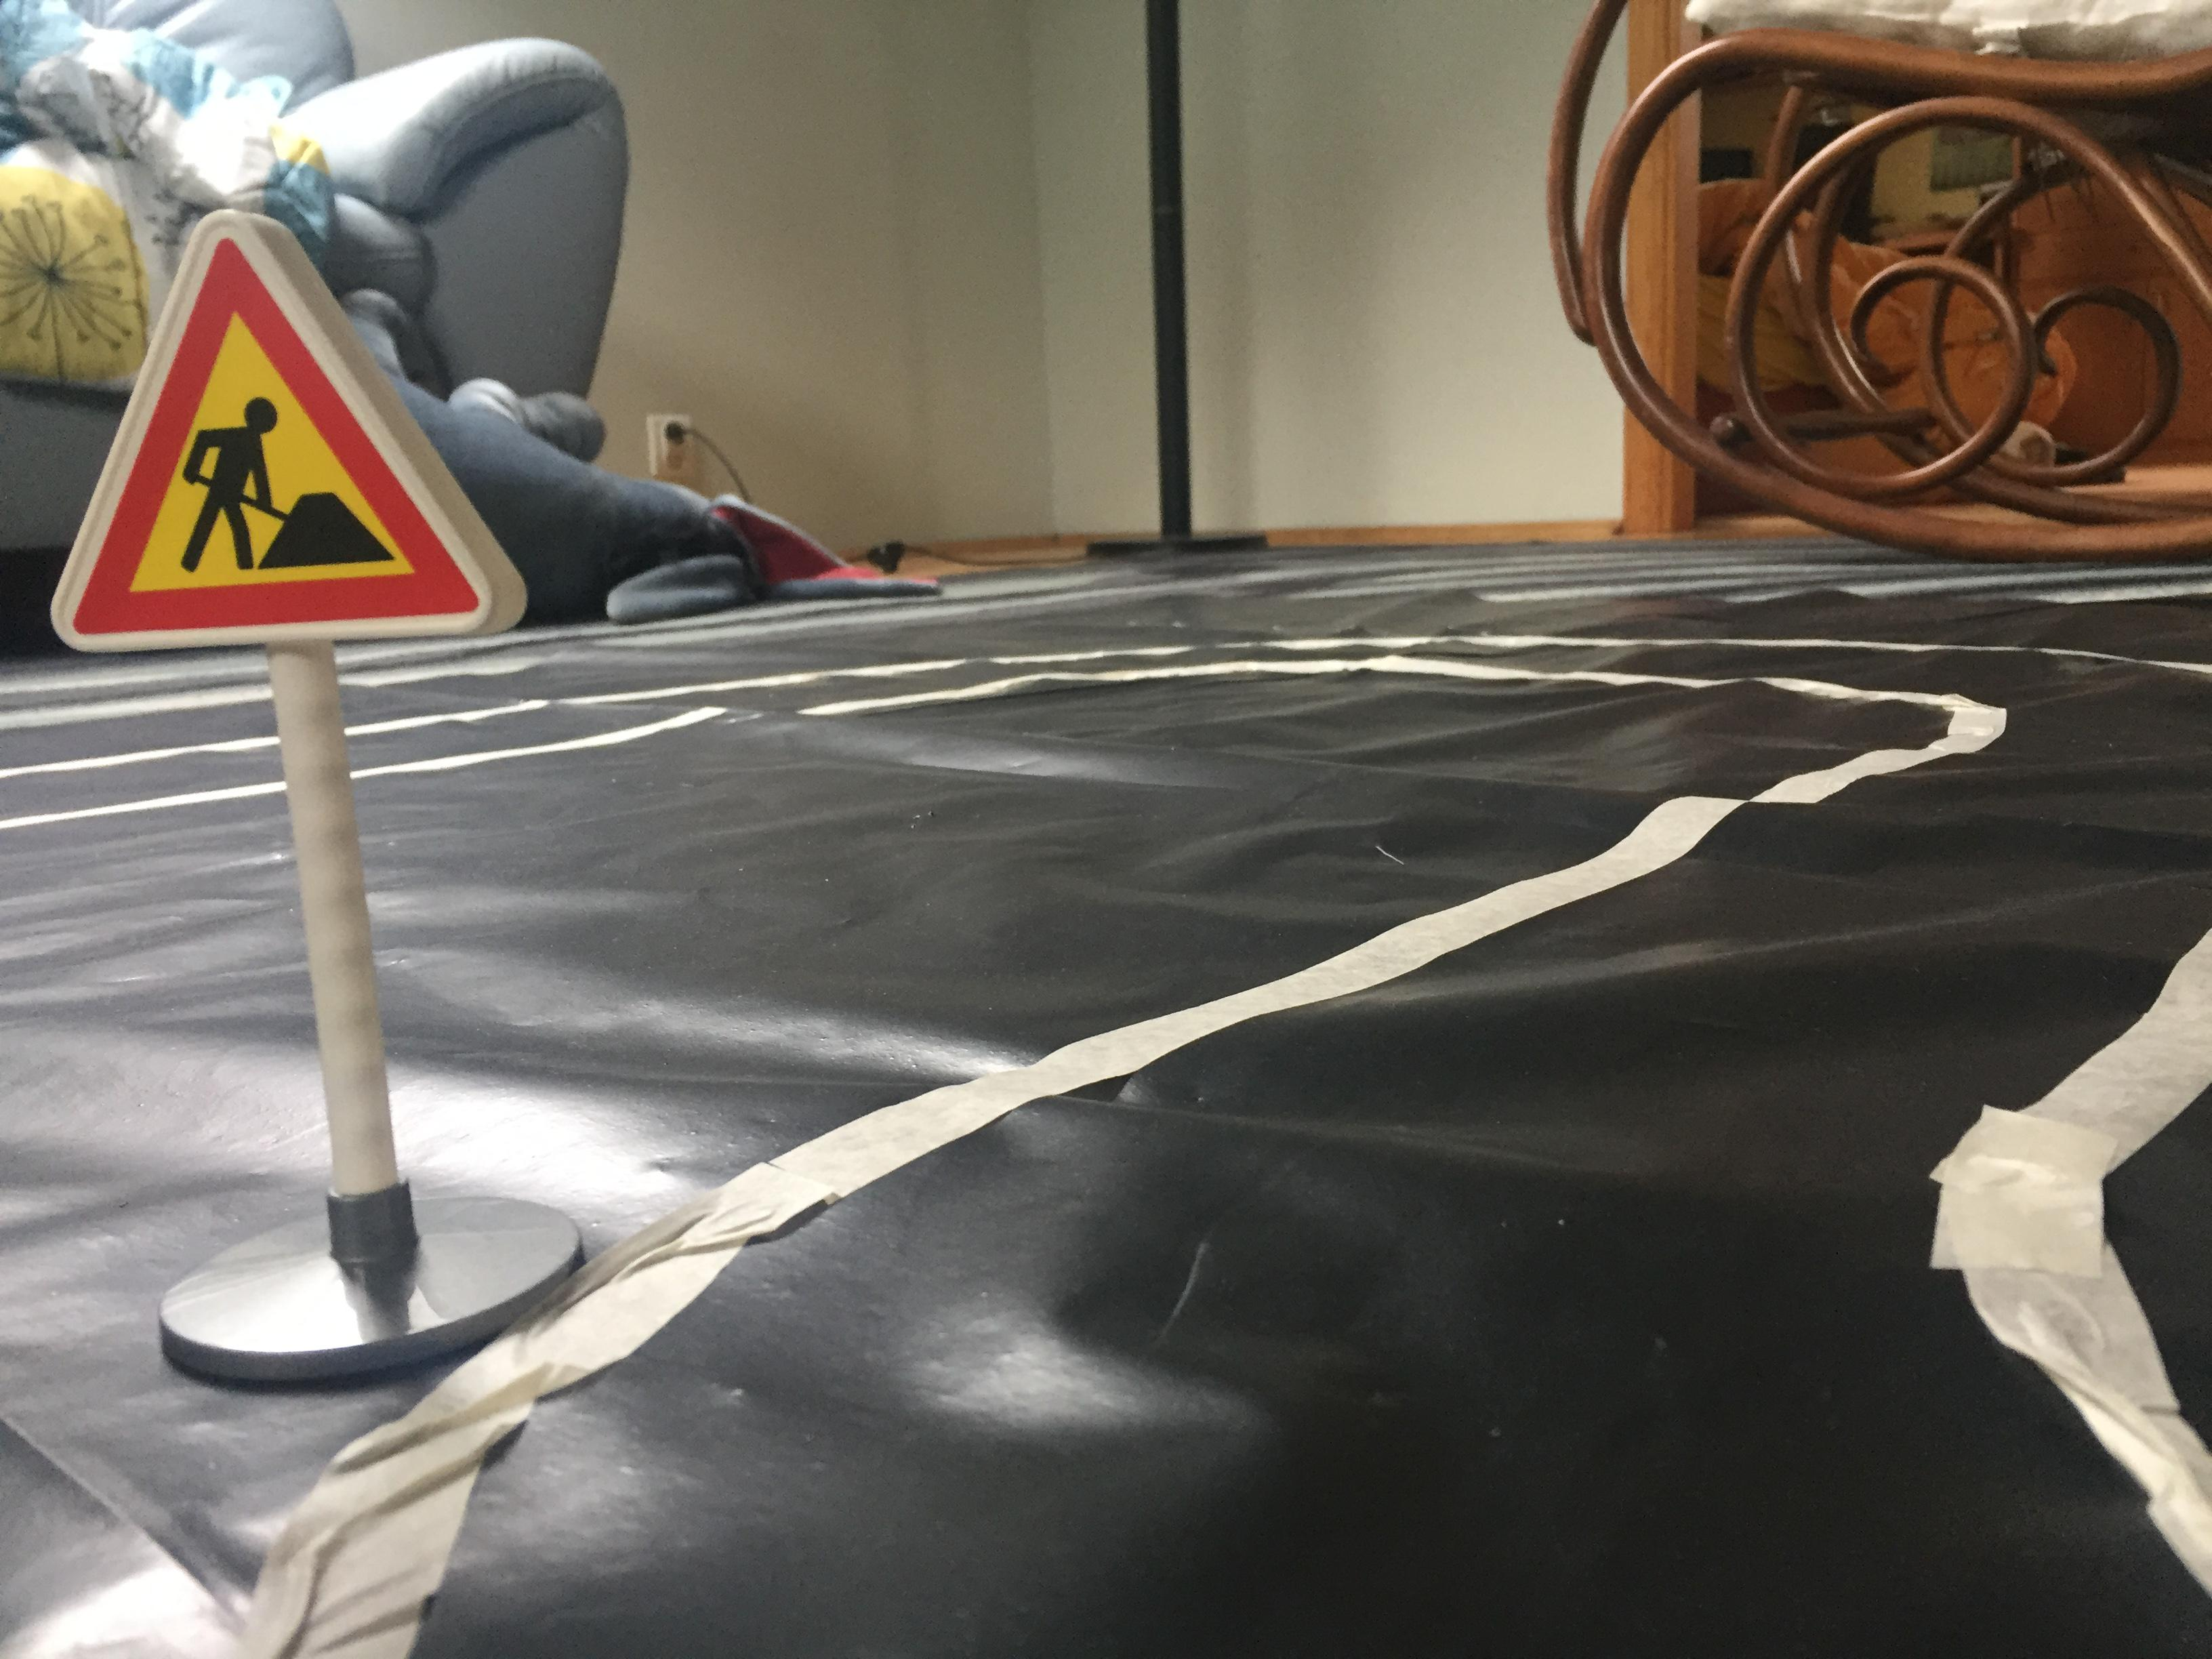work: (38, 207, 550, 666)
